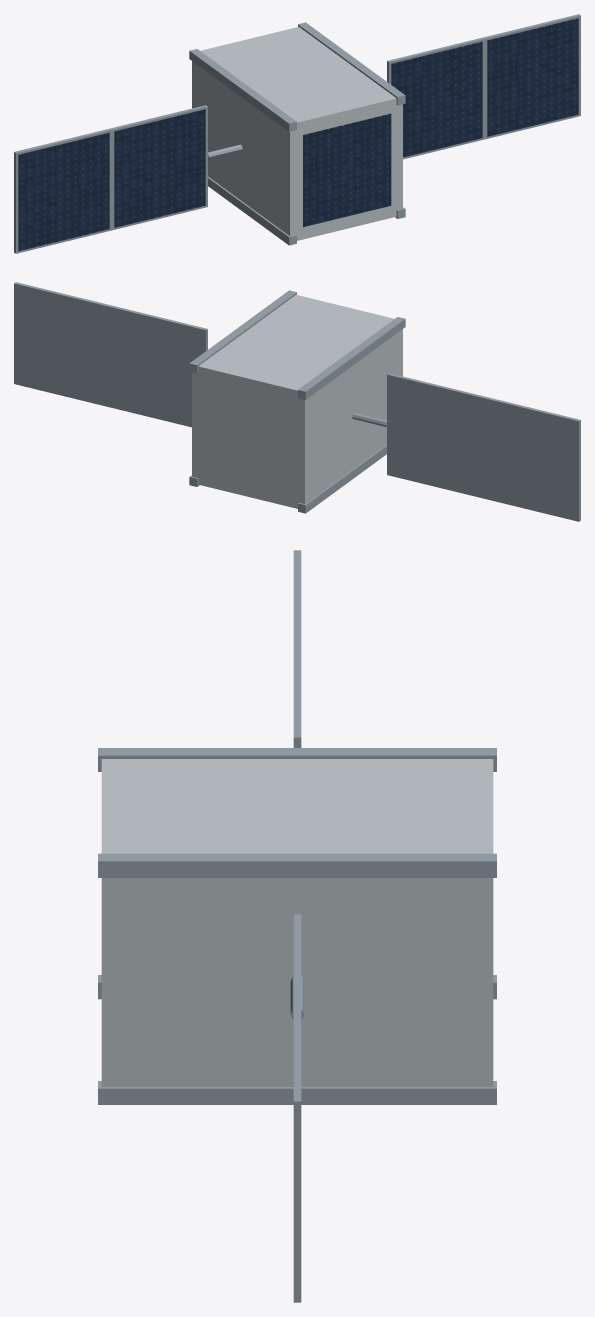
The model's file is ref-cubesat-12u-44876.glb.
3 renders of one model, top to bottom at view 1: azimuth 30°, elevation 25°; view 2: azimuth 150°, elevation 25°; view 3: azimuth 270°, elevation 25°, orthographic. The views are drawn at different scales.
Parts seen in each view (by area): view 1: Photovoltaic laminates (×4), Spacecraft body, Body-mounted cells, Array frame (×4), Dispenser rail (×3); view 2: Array frame (×4), Spacecraft body, Dispenser rail (×3); view 3: Spacecraft body, Dispenser rail (×3), Array frame (×2).
Part boxes in pixels (box(x1,y1,x2,y2)): Photovoltaic laminates (×4): box(18, 18, 578, 251); Spacecraft body: box(192, 27, 402, 240); Body-mounted cells: box(303, 113, 391, 227); Array frame (×4): box(14, 14, 580, 253); Dispenser rail (×3): box(189, 22, 405, 245); Array frame (×4): box(14, 282, 580, 521); Spacecraft body: box(192, 295, 402, 508); Dispenser rail (×3): box(189, 290, 405, 513); Spacecraft body: box(101, 759, 493, 1086); Dispenser rail (×3): box(98, 748, 496, 1104); Array frame (×2): box(293, 644, 301, 1302).
Size of the model in its own units: 1 by 0.206 by 0.306.
3 materials, 1 textured.
